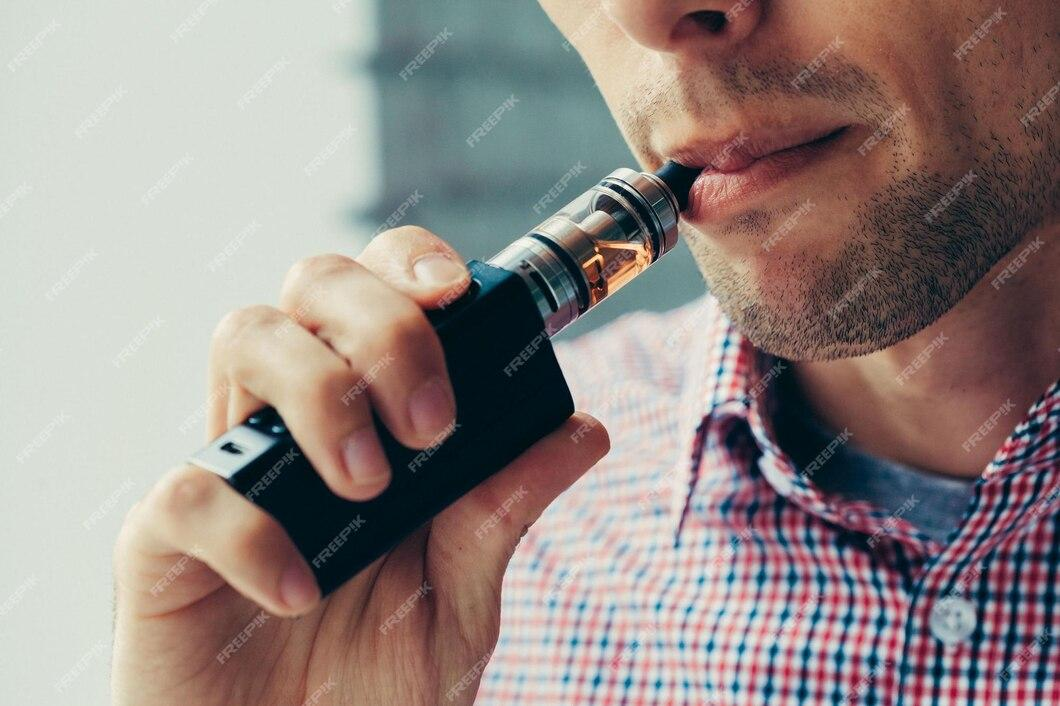Vape: (195, 160, 704, 594)
